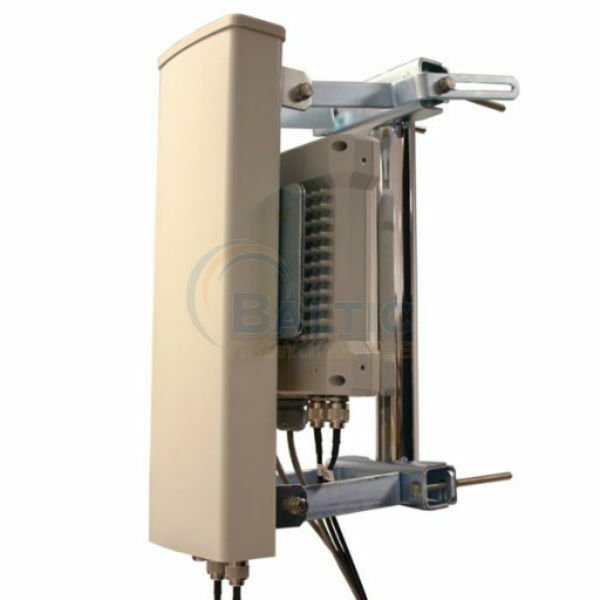sa: (144, 22, 365, 563)
